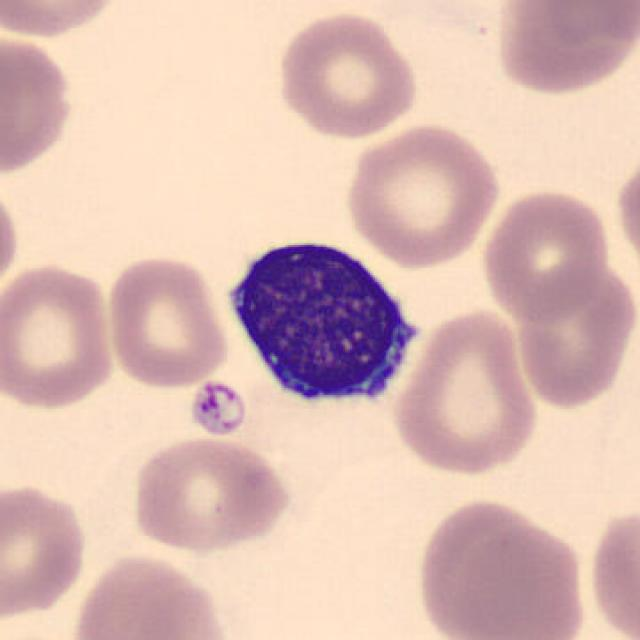Lymphocyte: (217, 222, 432, 418)
Platelets: (187, 378, 249, 438)
RBC: (390, 303, 542, 480), (341, 118, 503, 270), (270, 7, 422, 143), (126, 432, 294, 555), (428, 516, 591, 640), (478, 183, 614, 324), (512, 259, 636, 413), (101, 250, 233, 392), (0, 259, 119, 413), (67, 550, 233, 640), (491, 0, 638, 99), (0, 480, 91, 622), (0, 28, 78, 180), (585, 497, 638, 640), (0, 0, 128, 41), (533, 0, 639, 49), (611, 149, 640, 278), (0, 176, 23, 300)
